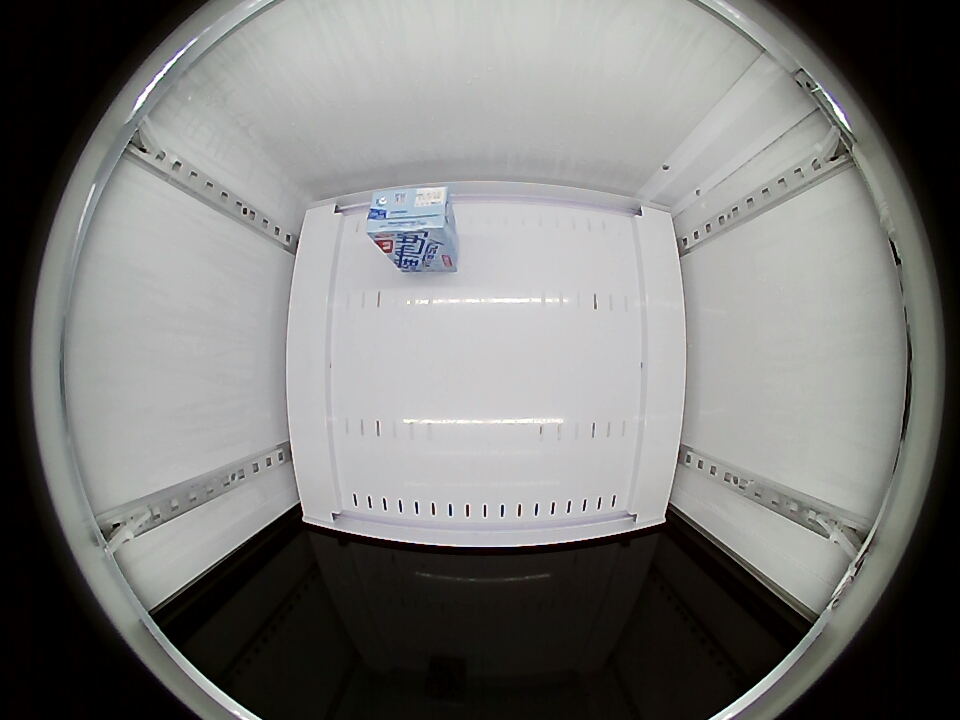weitanaiditang: (364, 185, 453, 249)
